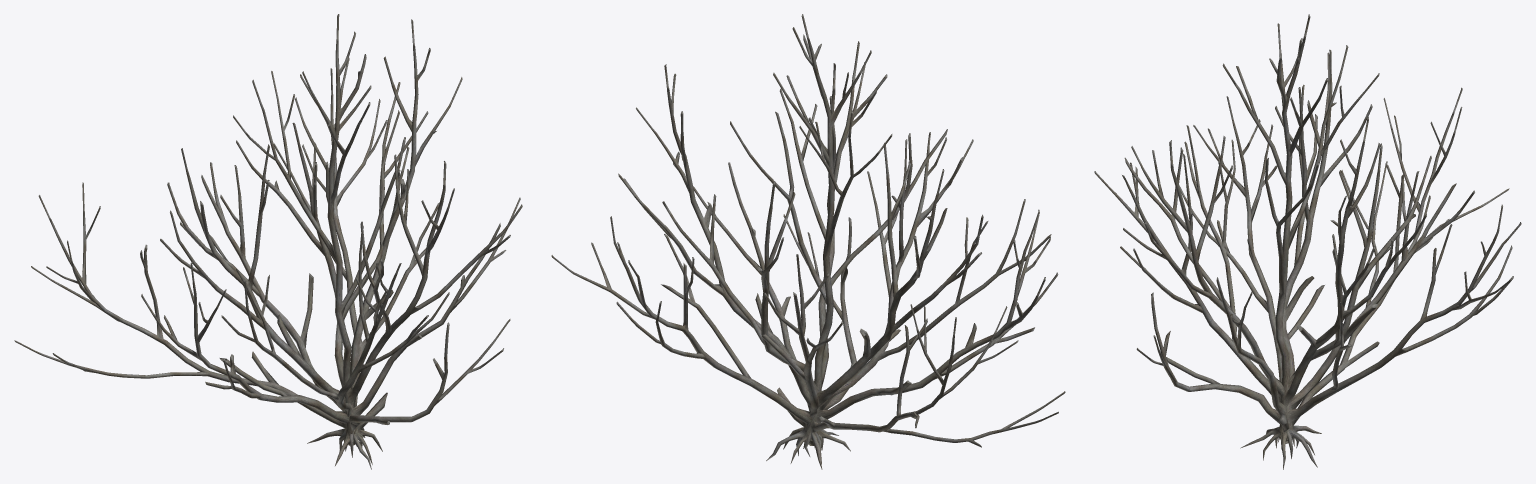
File: Salix elaeagnos HD_Dead mat 75_LOD2.fbx
3 renders of one model, left to right at view 1: azimuth 30°, elevation 25°; view 2: azimuth 150°, elevation 25°; view 3: azimuth 270°, elevation 25°, orthographic. The views are drawn at different scales.
Parts seen in each view (by area): view 1: Salix_elaeagnos_HD; view 2: Salix_elaeagnos_HD; view 3: Salix_elaeagnos_HD.
Boxes of the visible parts, x1,y1,x2,y2 form: Salix_elaeagnos_HD: (14, 14, 522, 469); Salix_elaeagnos_HD: (551, 14, 1065, 469); Salix_elaeagnos_HD: (1094, 14, 1521, 469).
Size of the model in its own units: 1.61 by 1.53 by 1.34.
Materials: 2 (2 with a texture image).
